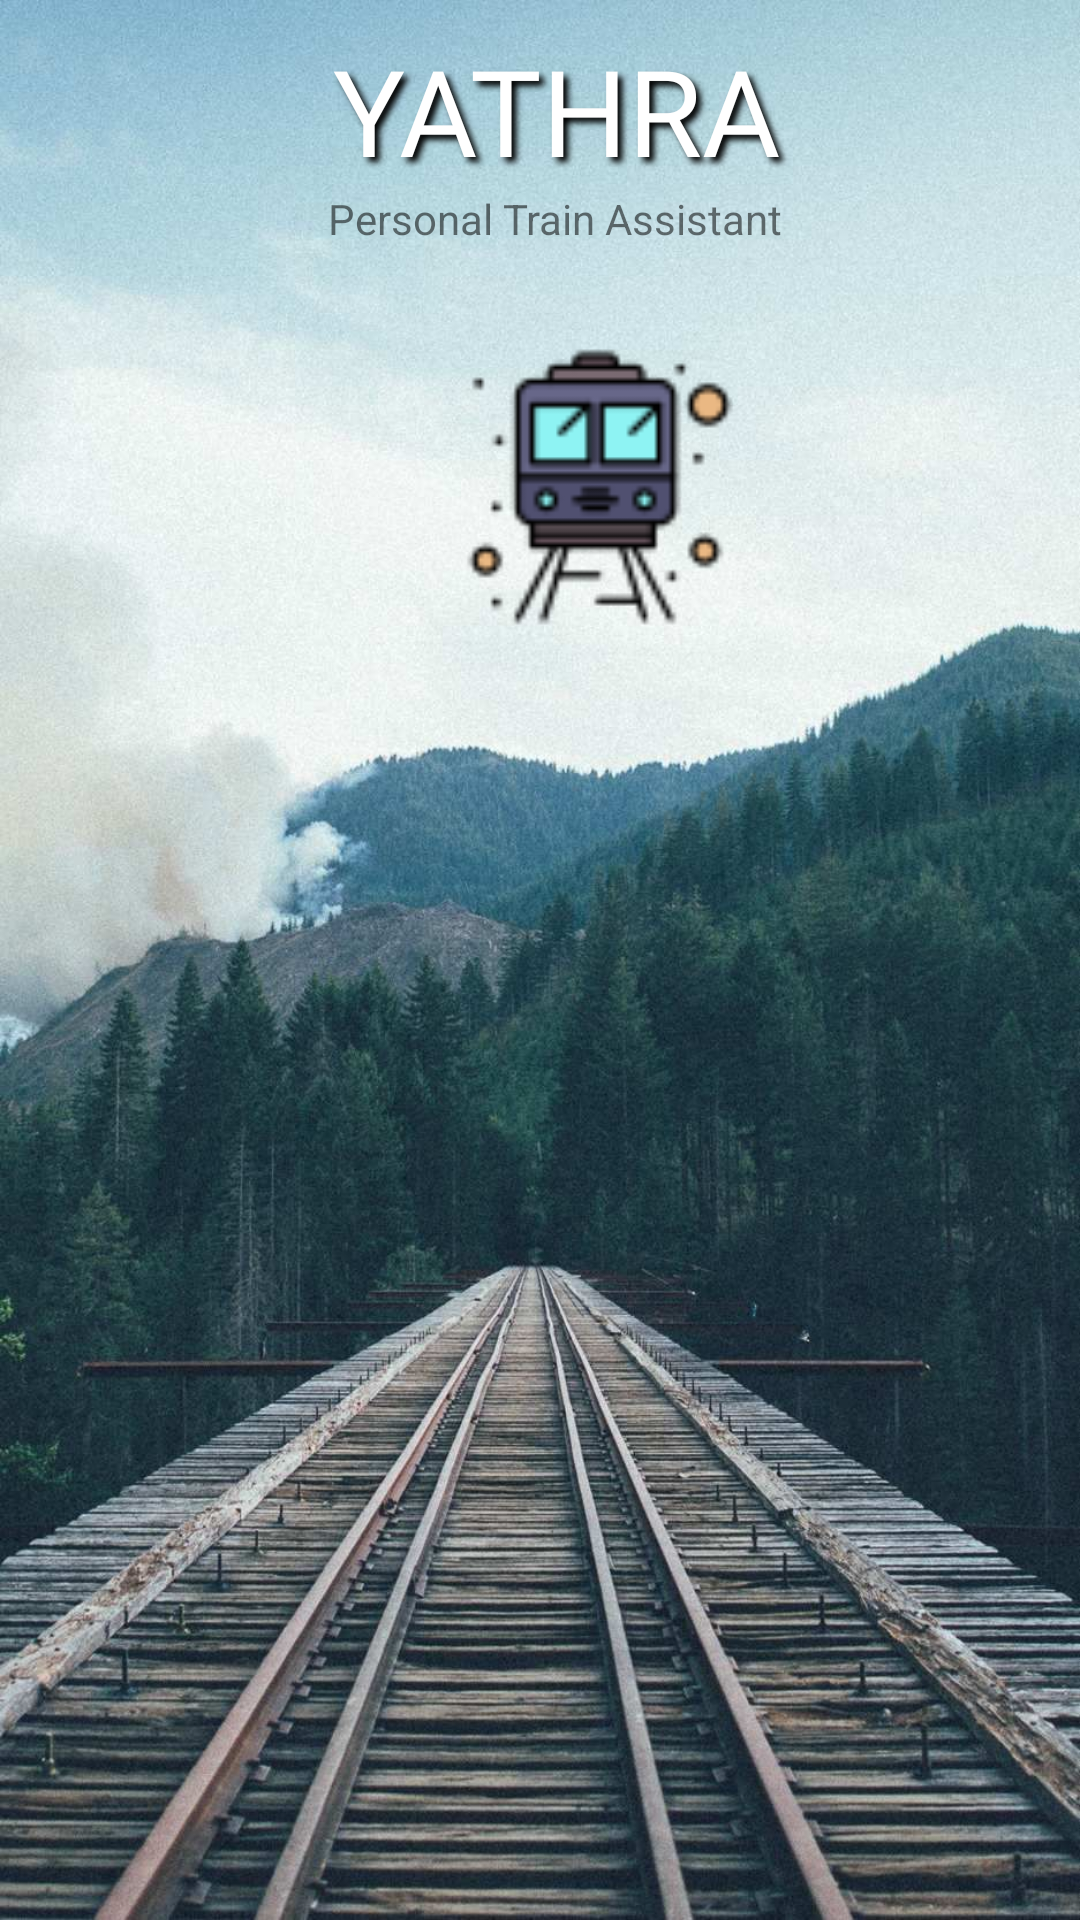

Where to tap for icons on this 1080 × 1920 app screen, as (x=x, y=y):
toast train: (x=600, y=481)
